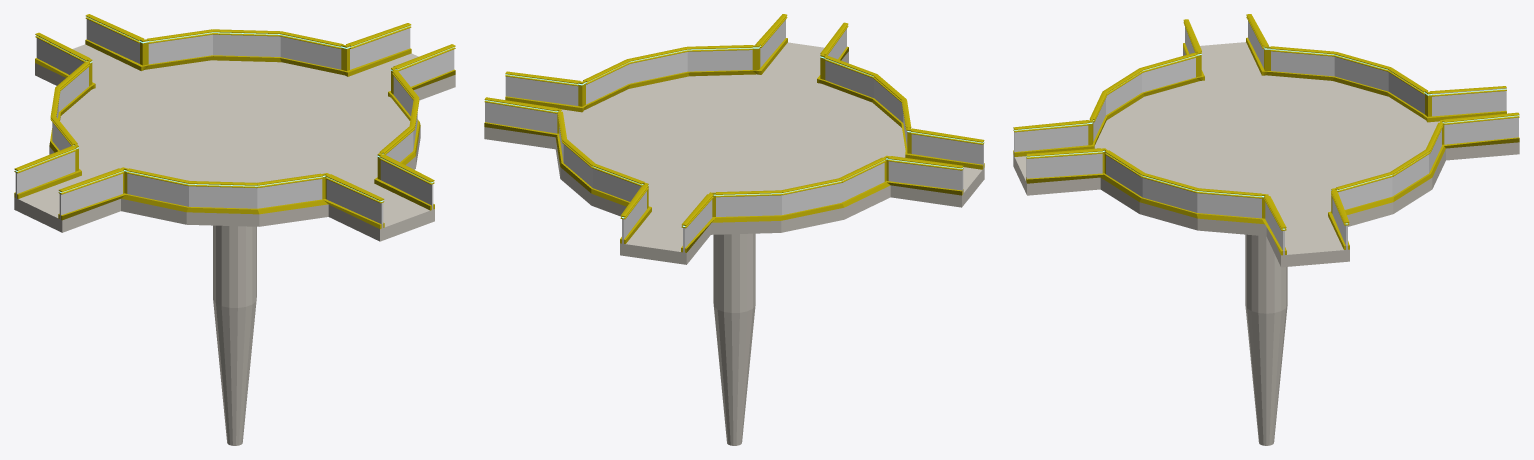
File: Main_Building 1.fbx
3 views of the same model, side by side, from view 1: azimuth 30°, elevation 25°; view 2: azimuth 150°, elevation 25°; view 3: azimuth 270°, elevation 25° (orthographic). The views are drawn at different scales.
Parts seen in each view (by area): view 1: Cylinder.004; view 2: Cylinder.004; view 3: Cylinder.004.
Part boxes in pixels (x1,y1,x2,y2): Cylinder.004: (14, 14, 455, 445); Cylinder.004: (484, 14, 984, 445); Cylinder.004: (1013, 14, 1519, 445).
Size of the model in its own units: 4617 by 3242 by 4617.
